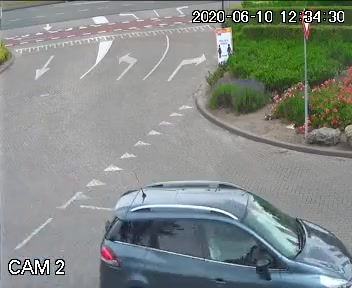car: (86, 174, 352, 288)
